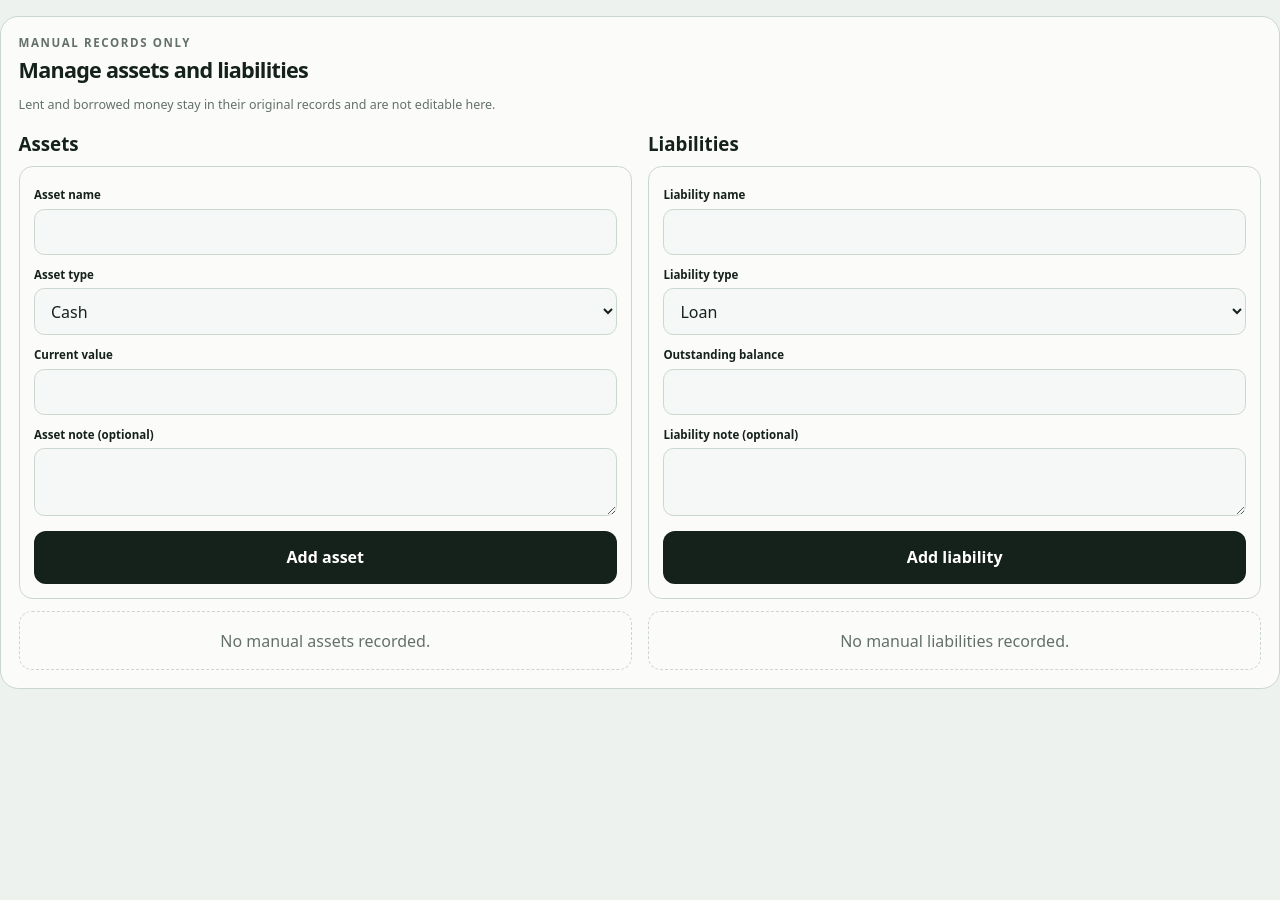
Scenario: NetWorthEditor › clears successful asset and liability creates even when refresh fails
In the field labelled "Asset name": (325, 232) 34,209 -> 617,255, type "Savings account"
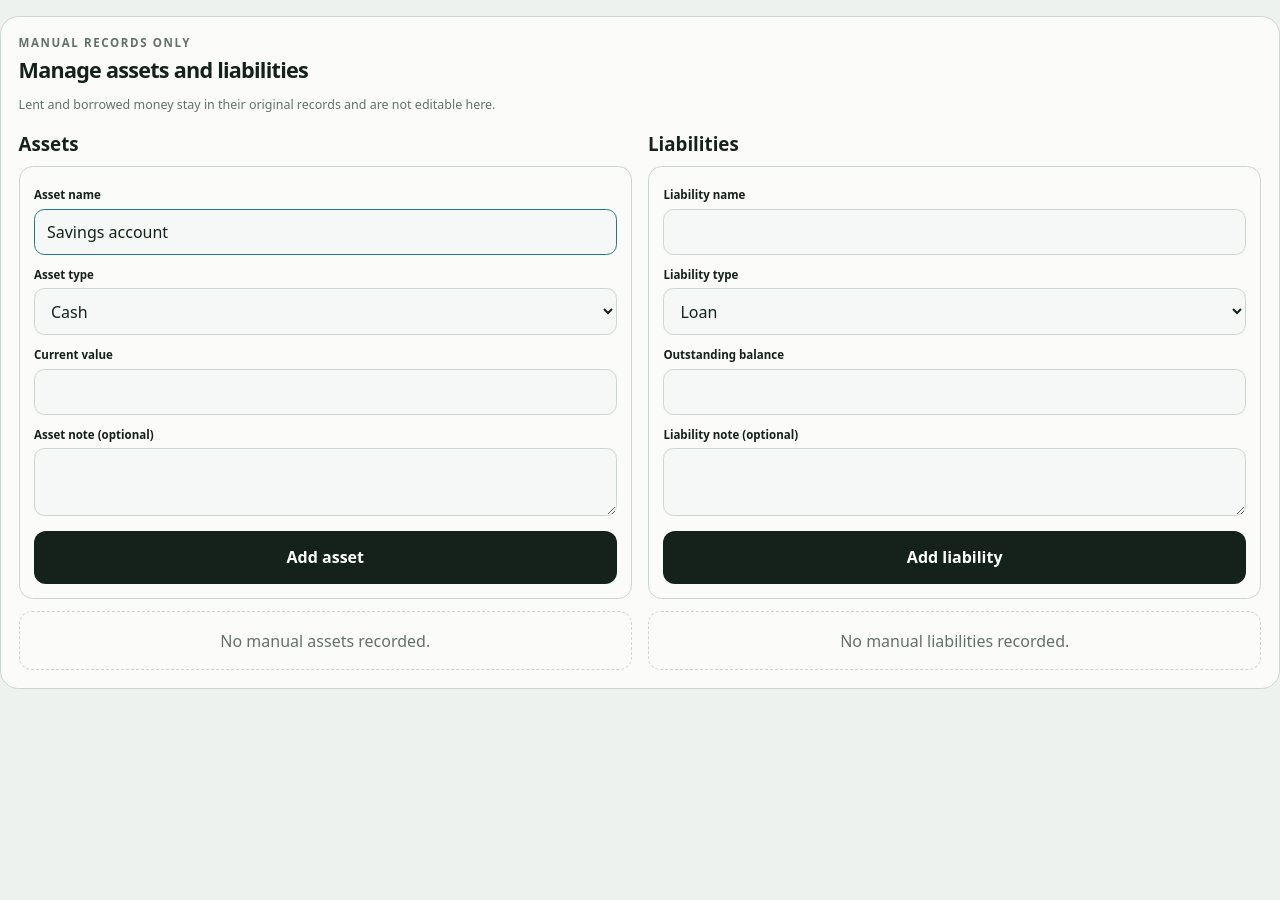
In the field labelled "Current value": (325, 392) 34,369 -> 617,415, type "125000"
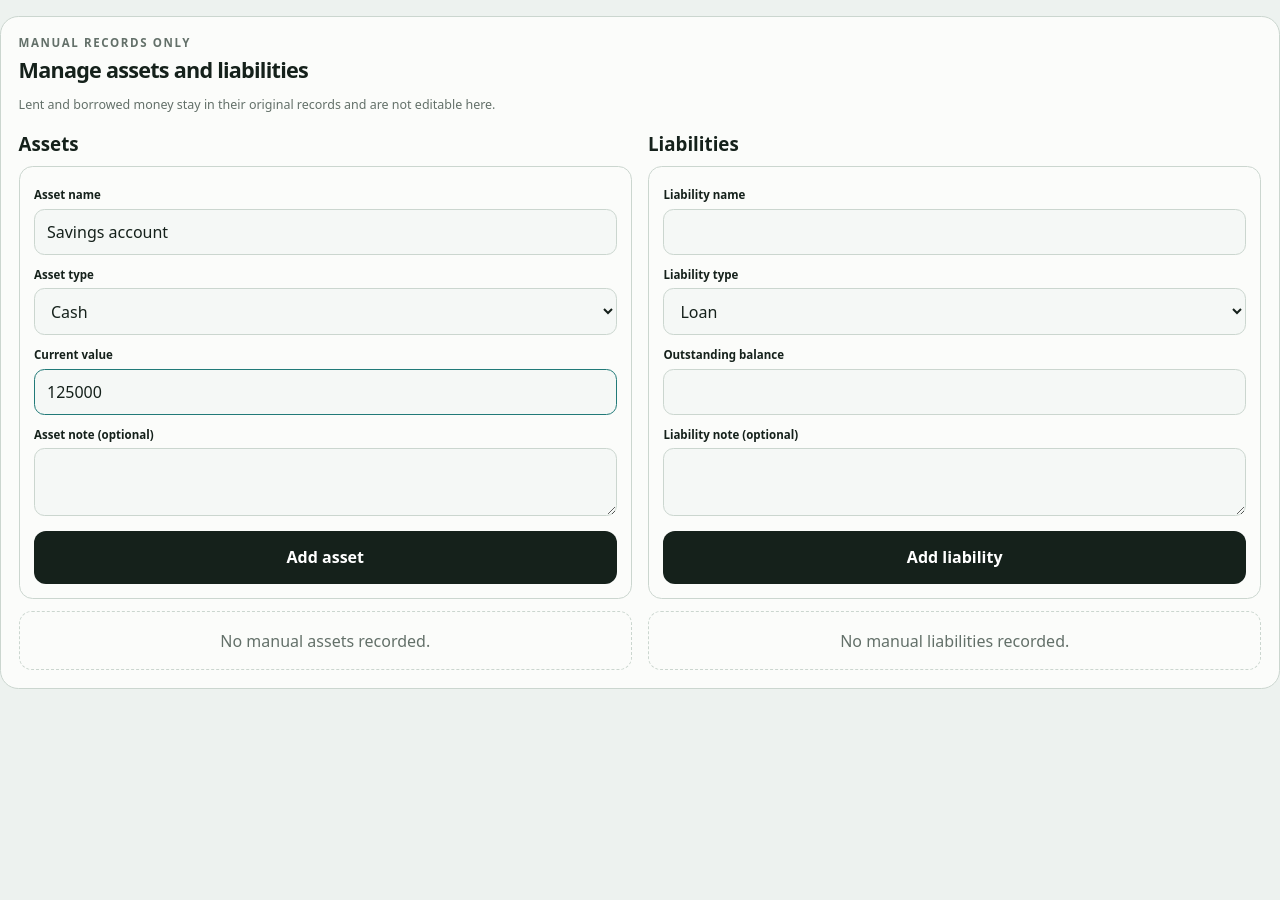
Click the button "Add asset": click(325, 557) 34,531 -> 617,584
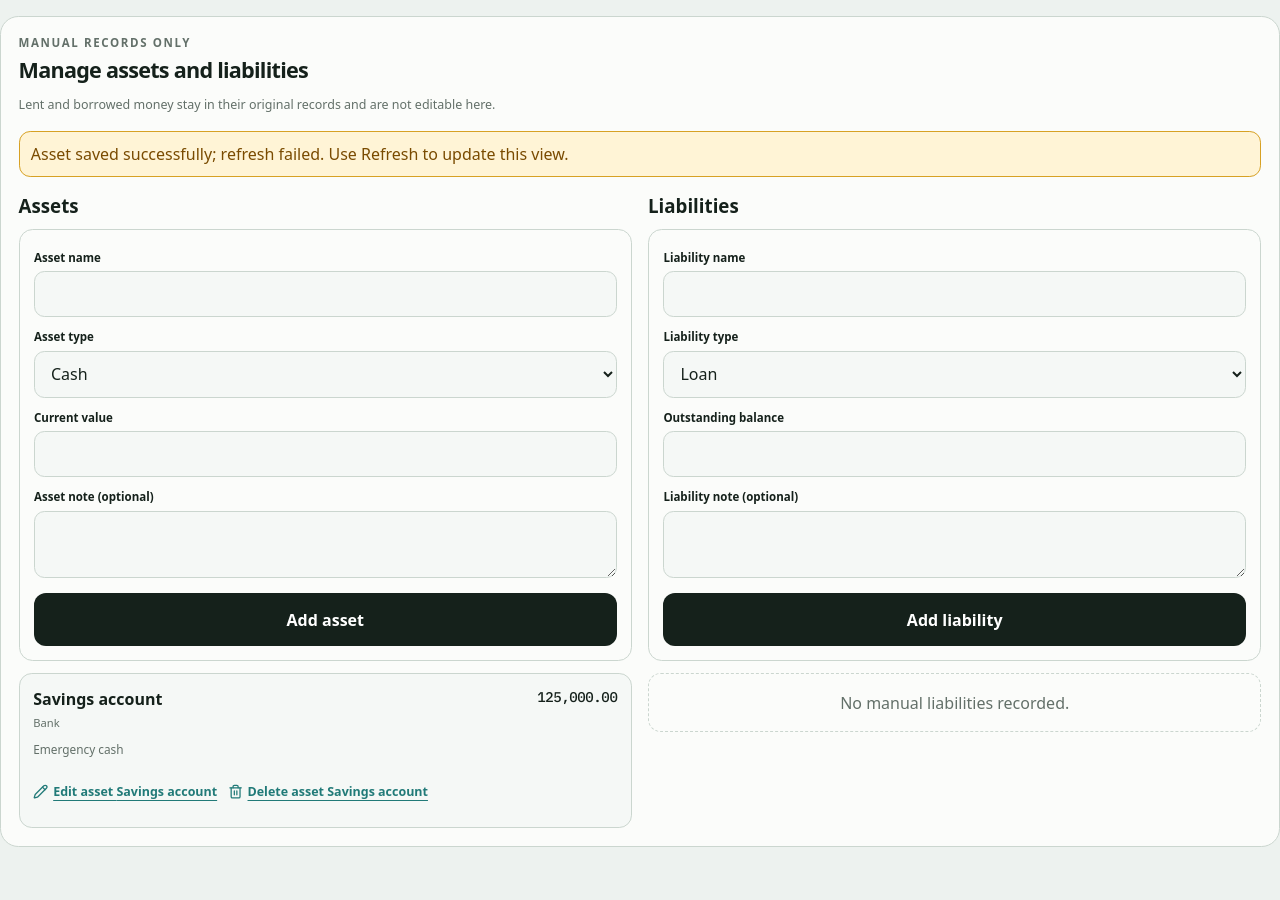
Check: the heading "Savings account" is shown, box 33,688 -> 162,710
Check: the field labelled "Asset name" is empty, box 34,271 -> 617,317
In the field labelled "Liability name": (955, 294) 663,271 -> 1246,317, type "Home loan"
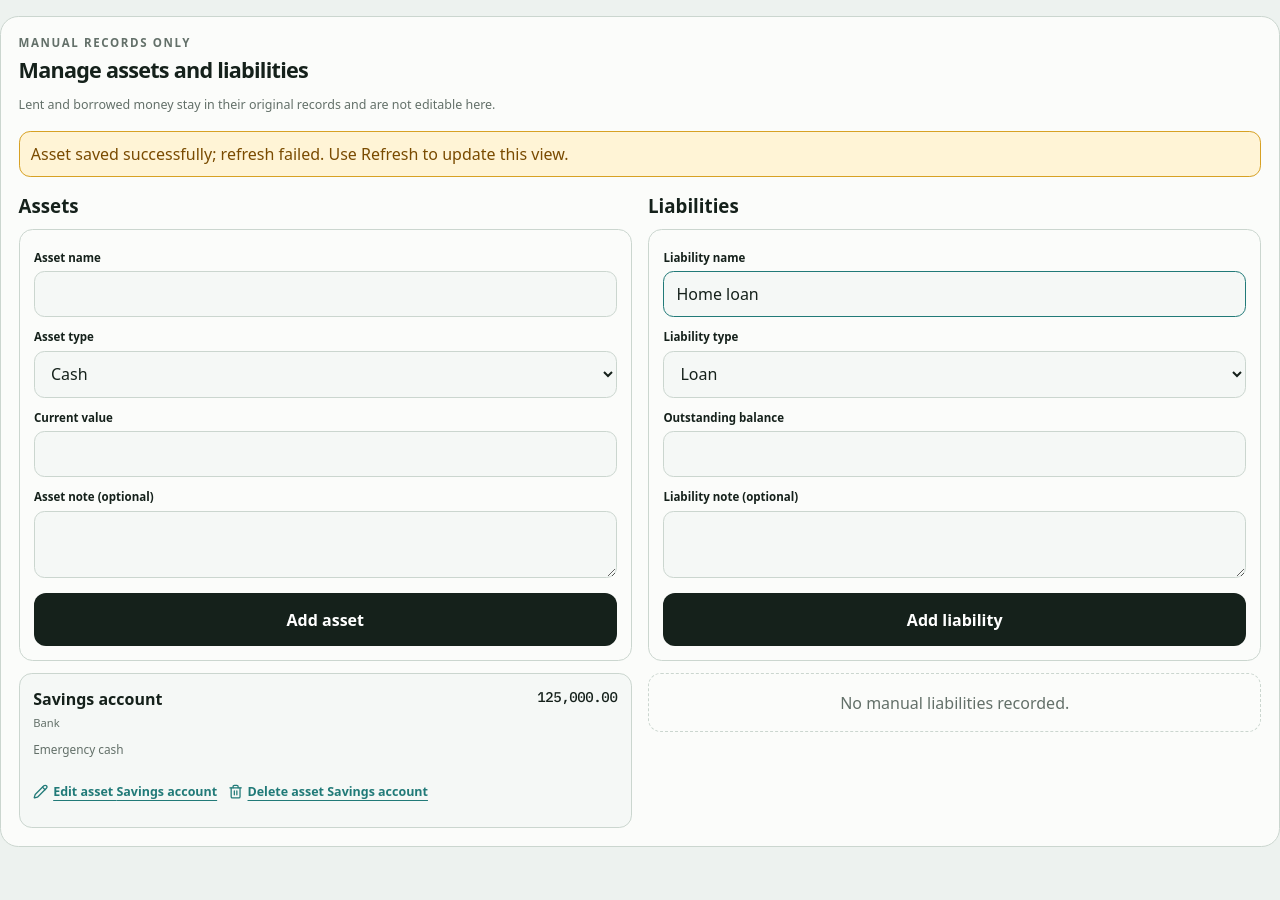
In the field labelled "Outstanding balance": (955, 454) 663,431 -> 1246,477, type "750000"
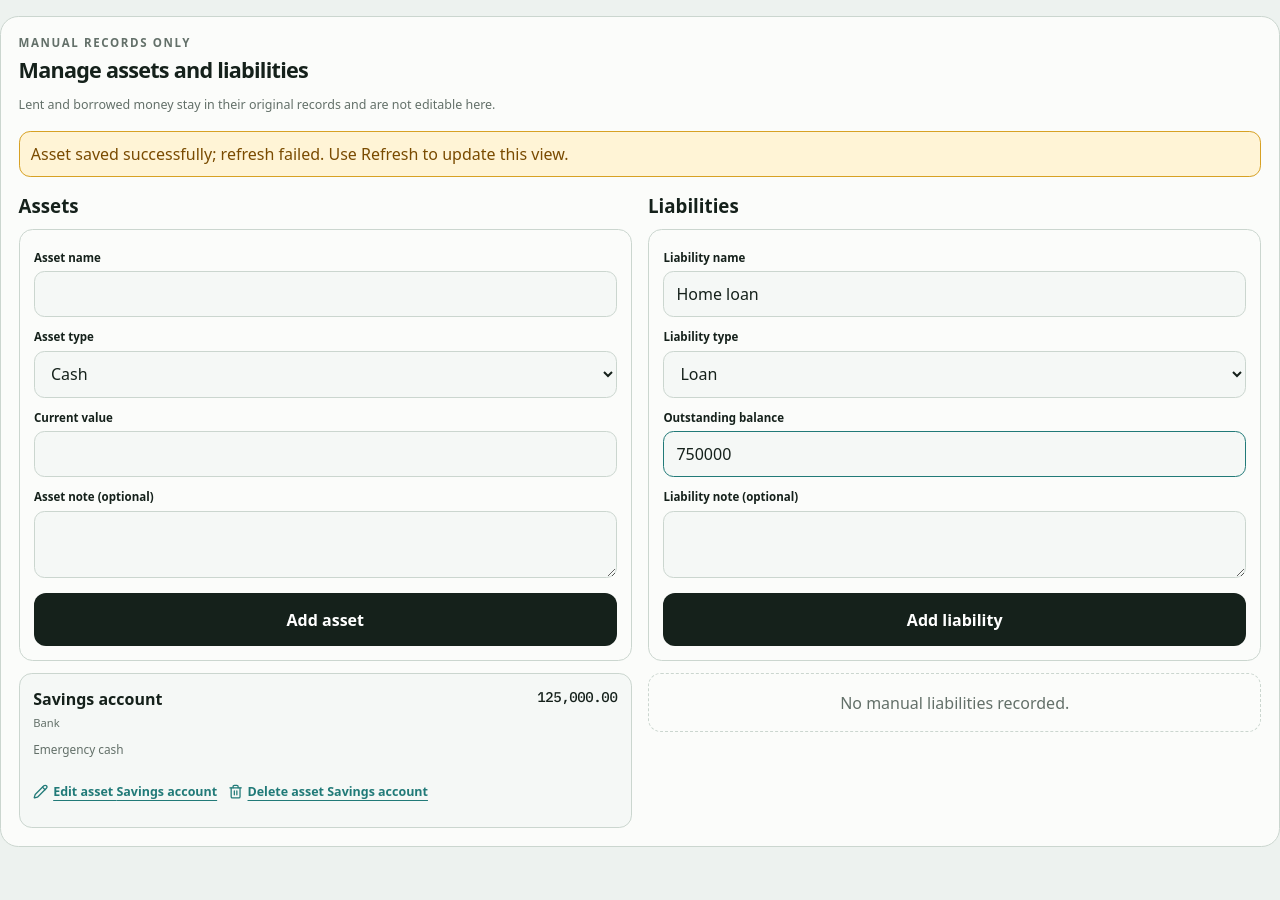
Click the button "Add liability": click(955, 620) 663,593 -> 1246,646
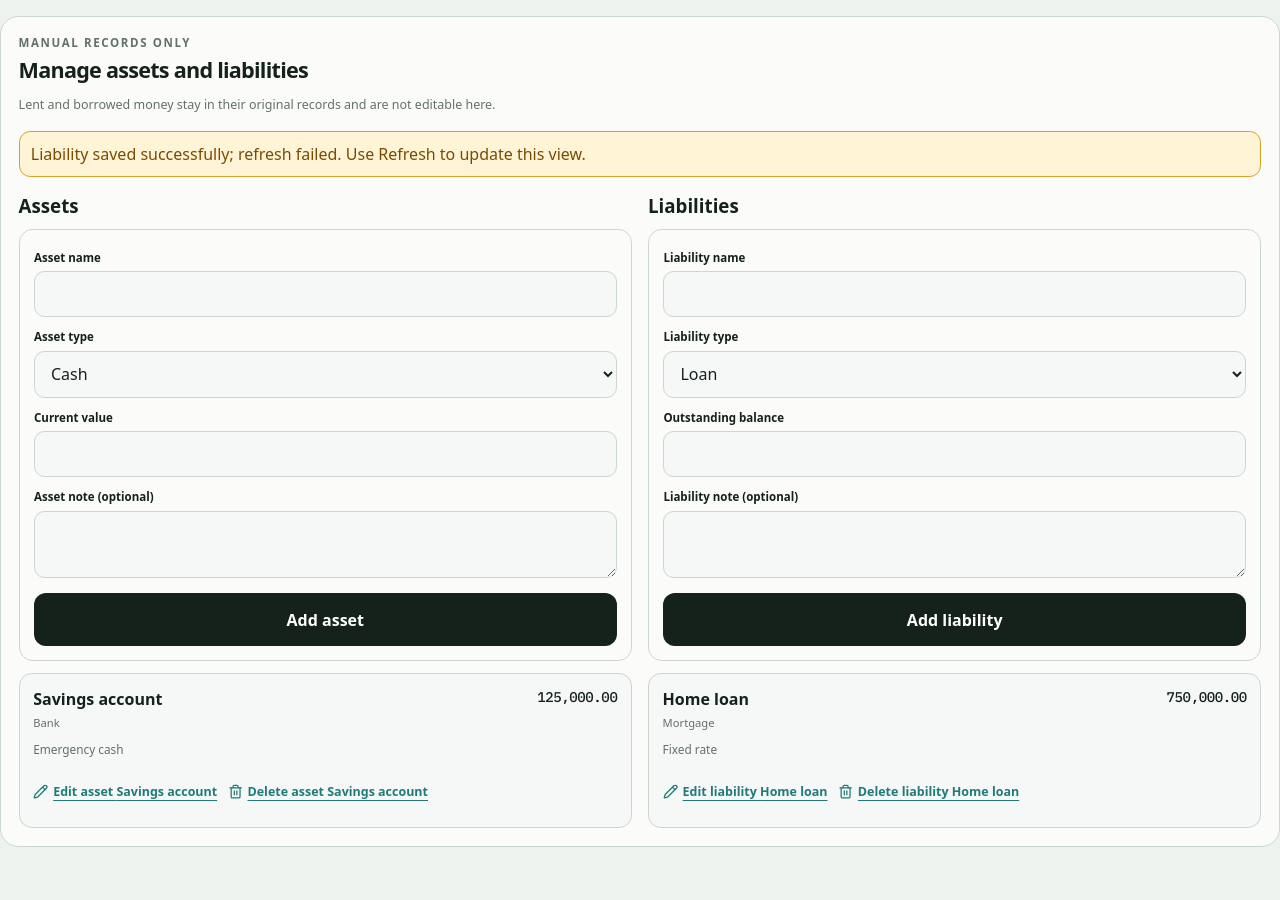
Check: the message reads "Liability saved successfully; refresh failed. Use Refresh to update this view.", box 31,143 -> 586,165
Check: the heading "Home loan" is shown, box 663,688 -> 749,710
Check: the field labelled "Liability name" is empty, box 663,271 -> 1246,317
